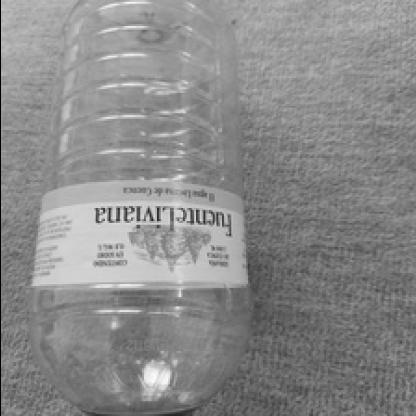plastic_bottles: (35, 6, 246, 416)
